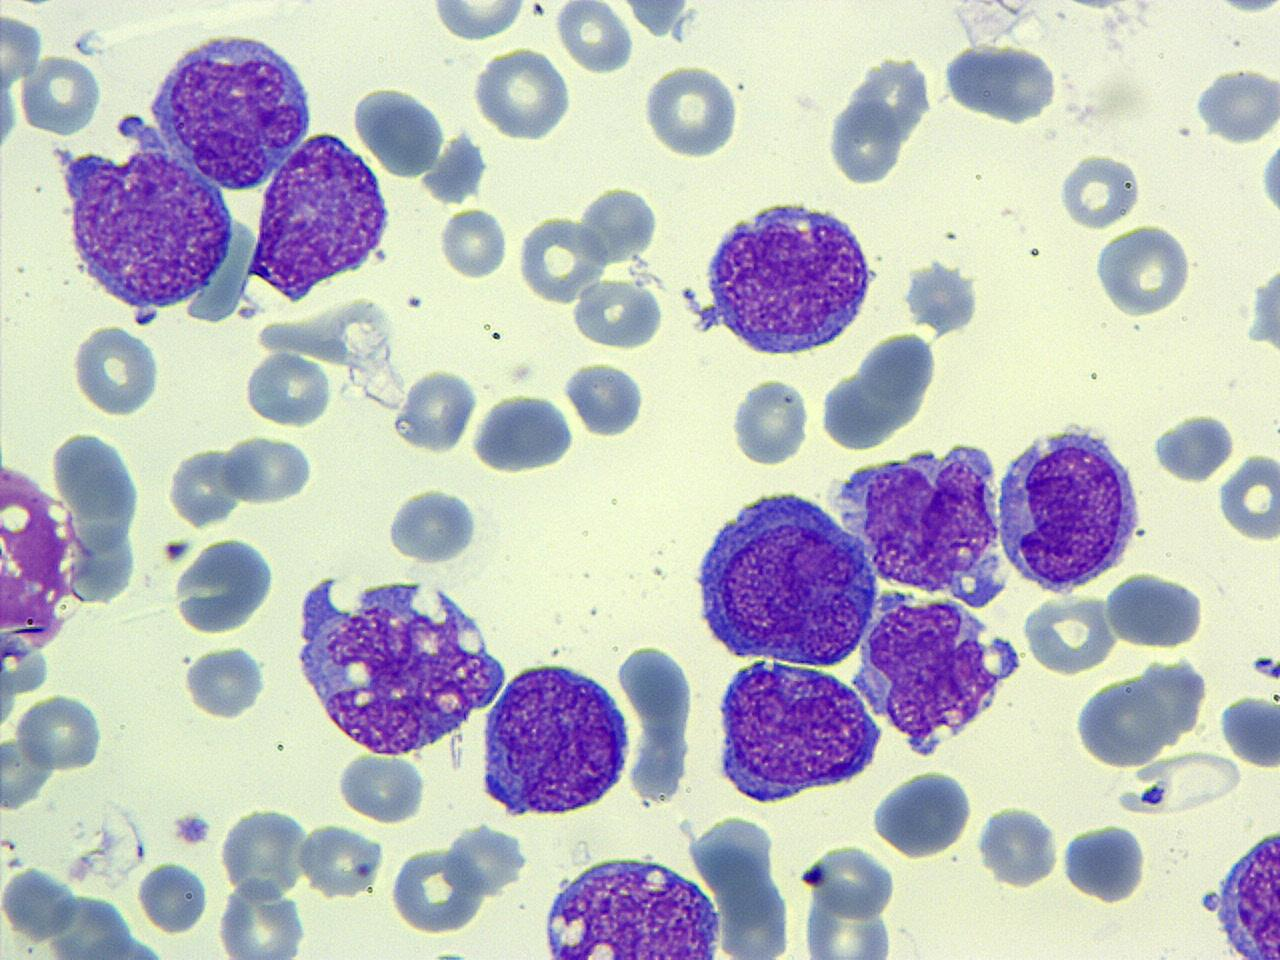Platelets: (384, 483, 487, 566), (728, 373, 812, 470), (977, 803, 1061, 890), (561, 359, 647, 438), (902, 258, 981, 338), (420, 131, 492, 206), (1219, 690, 1280, 767), (1248, 263, 1280, 358), (1257, 135, 1280, 222), (170, 808, 213, 850), (0, 70, 19, 158), (1212, 0, 1278, 17), (160, 537, 194, 564), (423, 944, 473, 960), (1250, 654, 1278, 680), (528, 2, 544, 16)
RBC: (612, 638, 698, 808), (640, 61, 744, 160), (470, 43, 574, 142), (1091, 220, 1195, 318), (350, 83, 447, 179), (386, 843, 487, 936), (68, 322, 163, 418), (1117, 748, 1245, 820), (218, 804, 306, 902), (727, 372, 815, 468), (1104, 570, 1208, 650), (1022, 592, 1119, 676), (516, 213, 602, 307), (392, 366, 480, 454), (333, 747, 431, 825), (215, 877, 307, 960), (978, 800, 1059, 892), (13, 692, 106, 773), (574, 182, 662, 267), (570, 277, 668, 352), (241, 350, 335, 428), (18, 52, 105, 136), (1056, 150, 1146, 231), (800, 882, 894, 959), (1191, 65, 1279, 146), (218, 434, 316, 505), (298, 819, 381, 899), (0, 862, 80, 941), (554, 1, 637, 76), (1217, 451, 1279, 545), (136, 856, 208, 934), (436, 204, 508, 280), (427, 0, 532, 42), (0, 9, 46, 92)
WBC: (52, 110, 264, 327), (291, 566, 511, 764), (688, 486, 880, 671), (826, 430, 1008, 606), (698, 196, 880, 360), (851, 588, 1021, 760), (144, 24, 316, 192), (992, 418, 1146, 594), (708, 652, 882, 806), (476, 656, 634, 820), (248, 129, 396, 301), (1, 442, 98, 678), (537, 850, 726, 959), (824, 48, 940, 188), (819, 324, 942, 453), (1072, 658, 1202, 771), (618, 637, 700, 806), (172, 534, 282, 640), (942, 36, 1064, 128), (1202, 822, 1280, 960), (387, 836, 490, 940), (868, 764, 978, 860), (1090, 220, 1194, 317), (468, 389, 578, 476), (352, 83, 447, 179), (383, 480, 486, 564), (1106, 572, 1208, 652), (730, 373, 812, 470), (392, 364, 480, 455), (1060, 822, 1148, 906), (574, 276, 670, 353), (1194, 64, 1280, 148), (562, 357, 650, 438), (181, 642, 270, 720), (1151, 409, 1239, 485), (902, 260, 984, 337), (422, 133, 492, 206), (1248, 260, 1280, 361)
